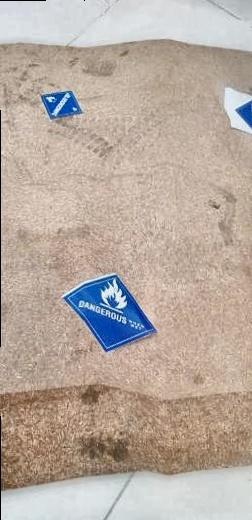dangerous-when-wet: (61, 265, 157, 367), (40, 89, 83, 123)
